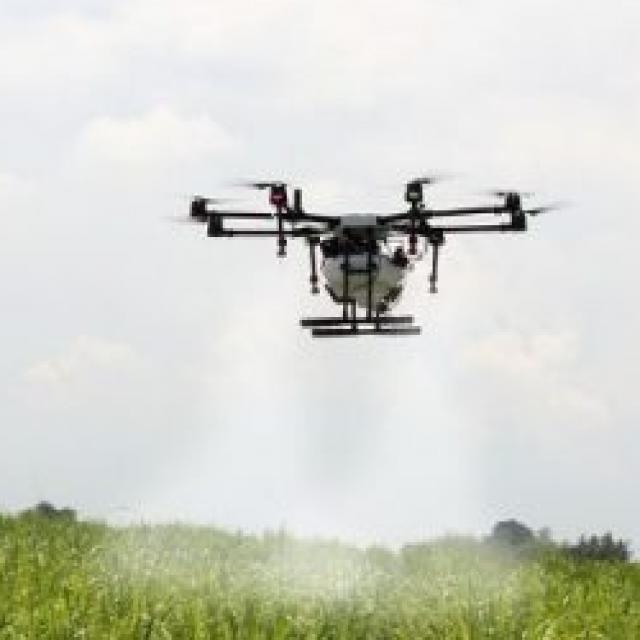drone: (161, 151, 571, 368)
